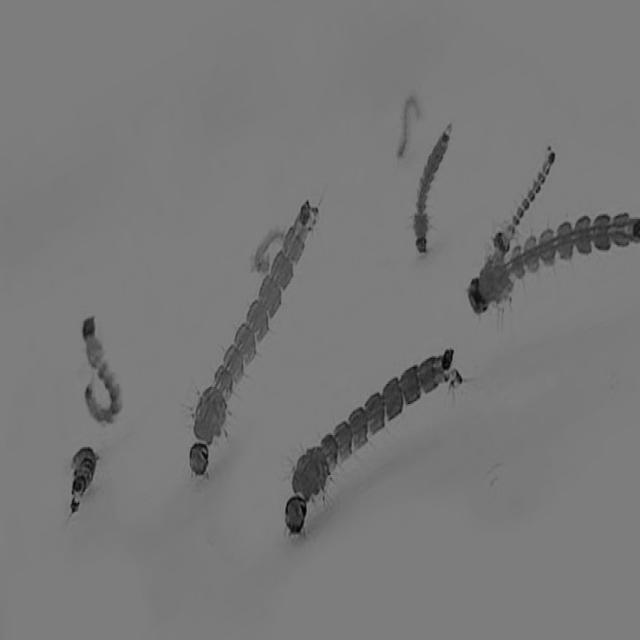larvas: (183, 187, 321, 497), (279, 336, 465, 545), (457, 187, 640, 327), (402, 111, 465, 266), (491, 142, 560, 255), (86, 315, 121, 425), (70, 448, 96, 512), (252, 224, 284, 271), (398, 99, 423, 156)
